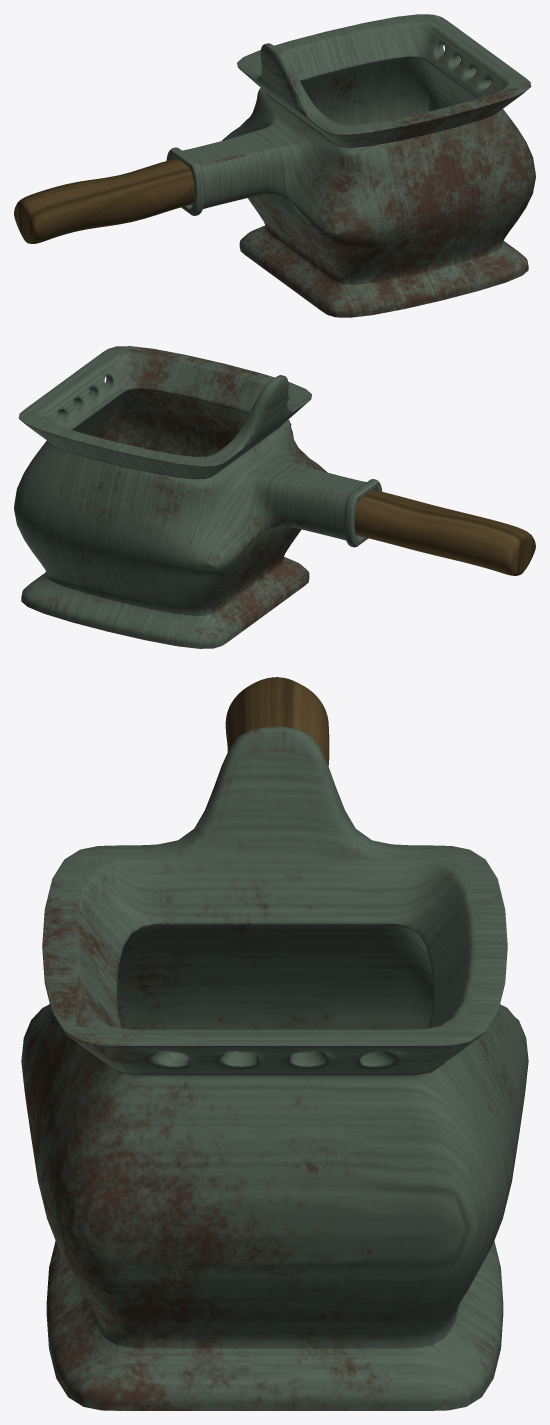
Rendered from Prinsa.fbx.
The picture shows the model from 3 angles, top to bottom: view 1: azimuth 30°, elevation 25°; view 2: azimuth 150°, elevation 25°; view 3: azimuth 270°, elevation 25°; orthographic projection. The views are drawn at different scales.
Parts seen in each view (by area): view 1: Cube.001; view 2: Cube.001; view 3: Cube.001.
Part boxes in pixels (x1,y1,x2,y2): Cube.001: [14, 14, 535, 317]; Cube.001: [14, 346, 535, 648]; Cube.001: [21, 677, 528, 1410].
Size of the model in its own units: 72.24 by 35.32 by 34.02.
1 material, 1 textured.
